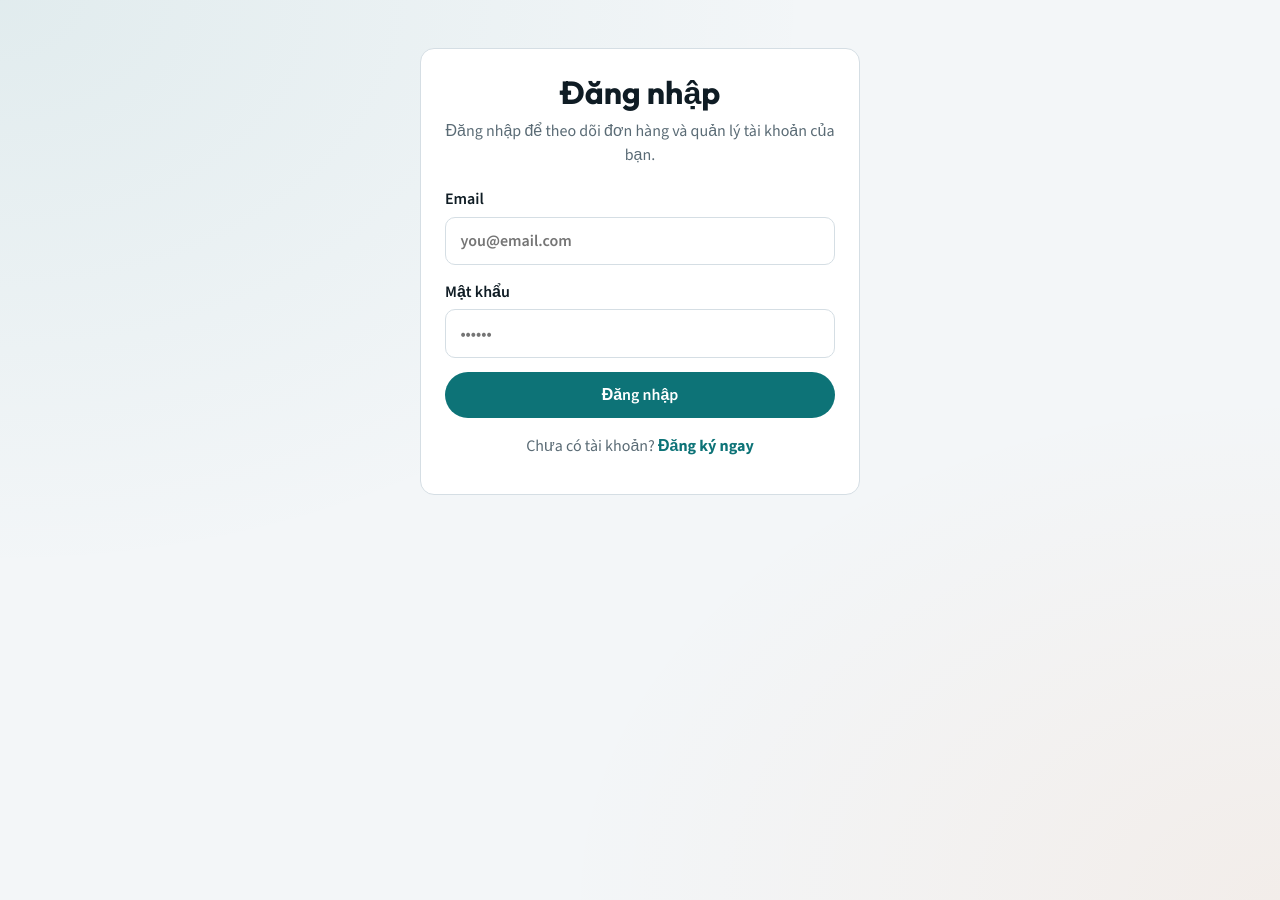
Test: Trang Login › login() ném lỗi: vẫn hiện thông báo, không crash
This screenshot has width=1280, height=900.
Type "admin@devshop.com" into the field labelled "Email".
click(640, 241); type("admin@devshop.com")  # box [445, 217, 835, 265]
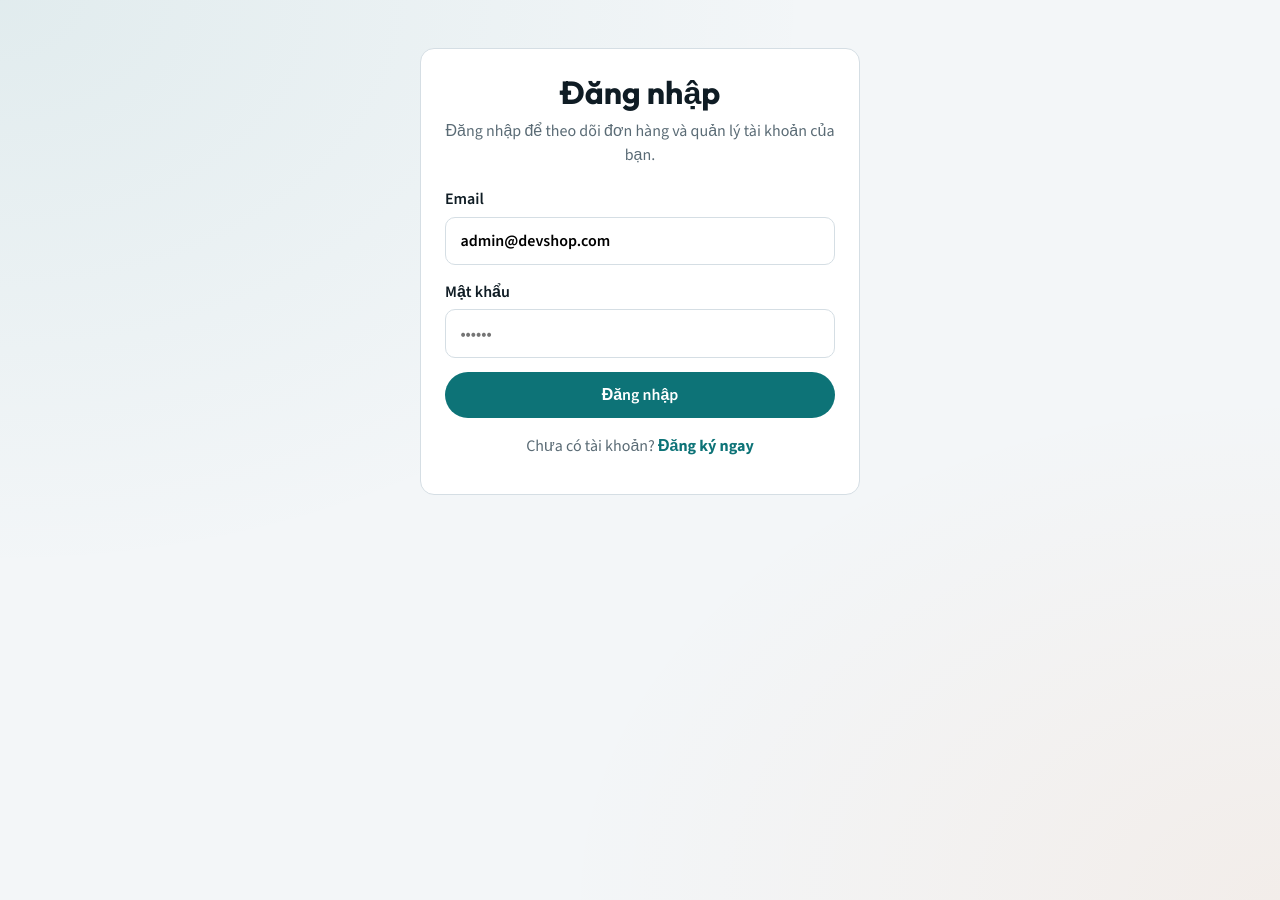
Type "123456" into the password field labelled "Mật khẩu".
click(640, 334); type("123456")  # box [445, 309, 835, 358]
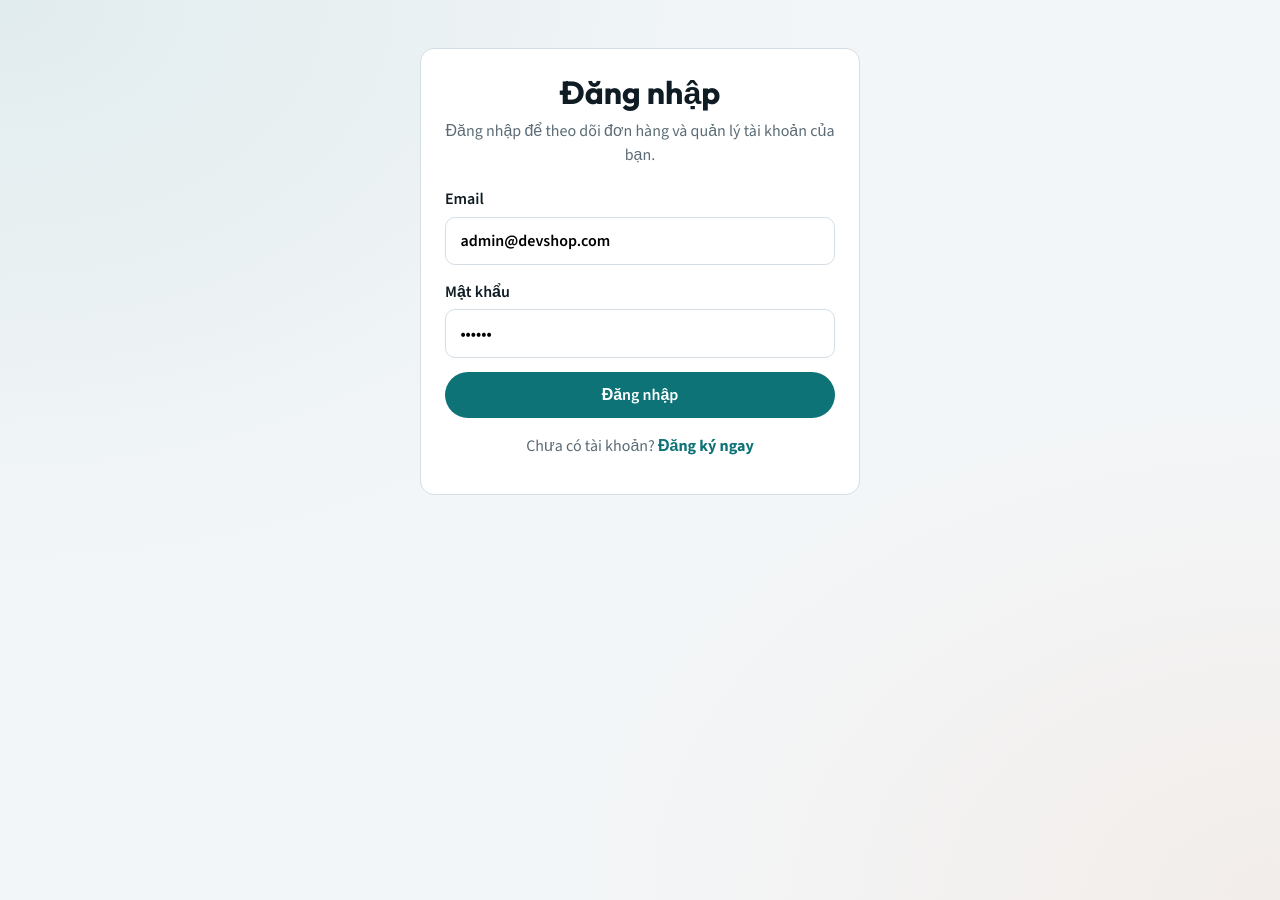
Click the button "Đăng nhập".
click(640, 395)  # box [445, 372, 835, 418]
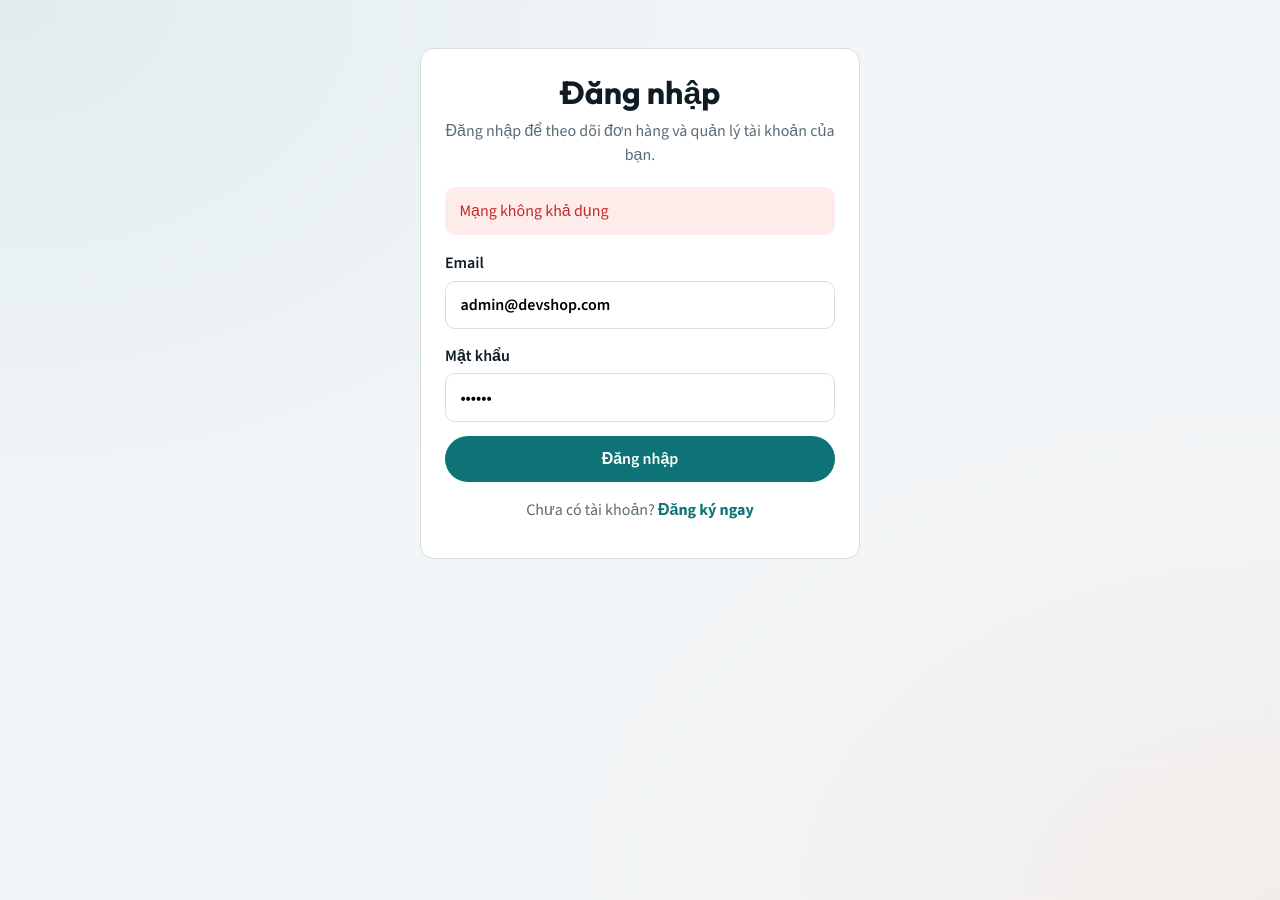
Expected: the text "Mạng không khả dụng" is shown, [445, 187, 835, 235]
